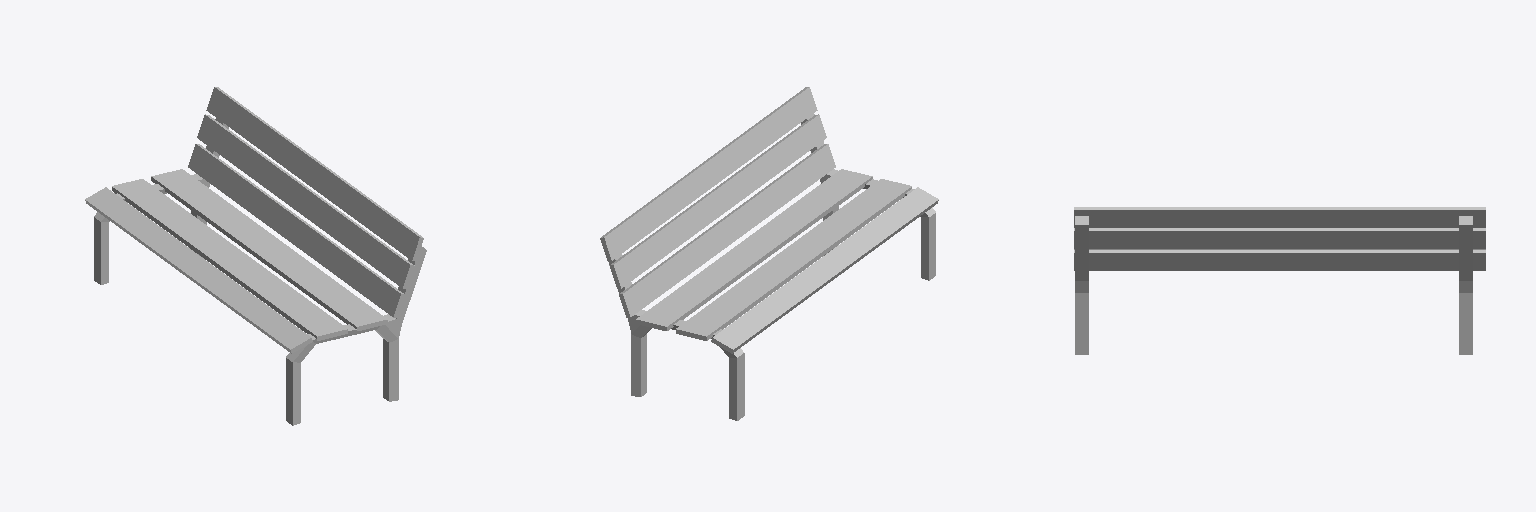
The model's file is Bench.obj.
The picture shows the model from 3 angles: view 1: azimuth 30°, elevation 25°; view 2: azimuth 150°, elevation 25°; view 3: azimuth 270°, elevation 25°; orthographic projection.
Parts seen in each view (by area): view 1: Seat_Cube.010; view 2: Seat_Cube.010; view 3: Seat_Cube.010.
Boxes of the visible parts, x1,y1,x2,y2 form: Seat_Cube.010: [85, 87, 426, 425]; Seat_Cube.010: [600, 87, 938, 420]; Seat_Cube.010: [1074, 207, 1485, 354].
Size of the model in its own units: 1.45 by 1.6 by 3.77.